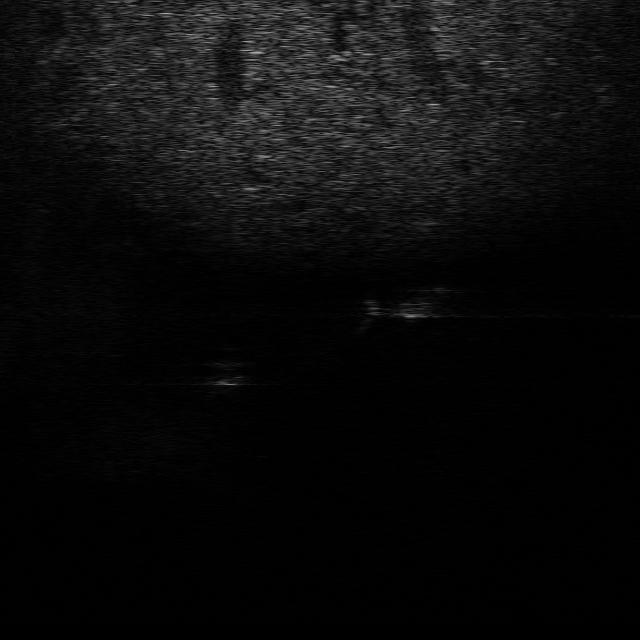ball: (196, 354, 255, 391)
human body: (355, 278, 459, 336)
